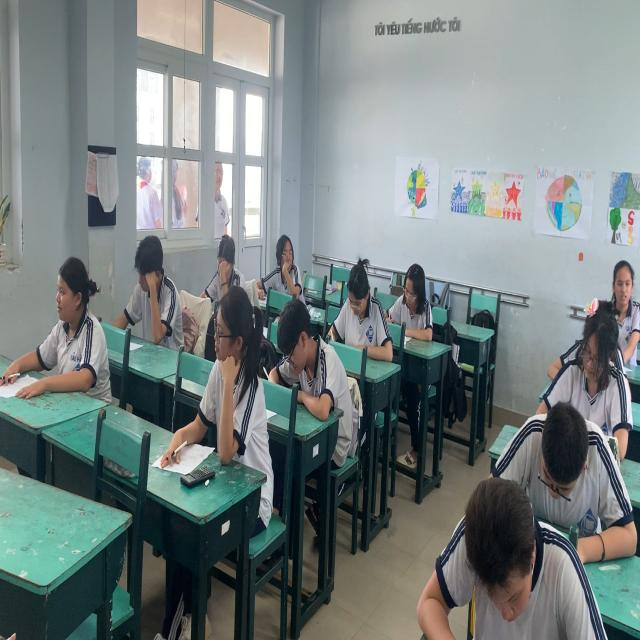cheating: (192, 279, 266, 468), (262, 222, 307, 302)
not_cheating: (449, 492, 554, 634), (528, 392, 602, 537), (270, 291, 338, 427), (36, 257, 106, 389), (332, 261, 400, 364), (122, 233, 181, 344), (565, 305, 614, 416), (393, 243, 433, 347), (202, 230, 250, 312), (604, 254, 640, 354)
